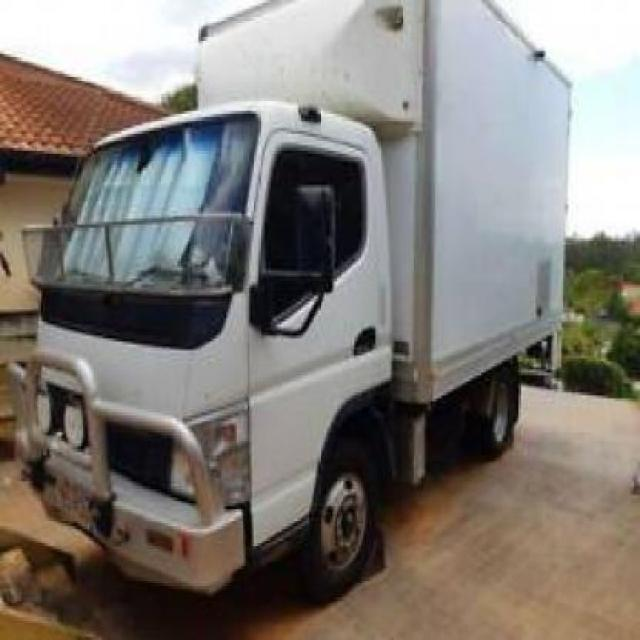truck: (7, 1, 569, 590)
